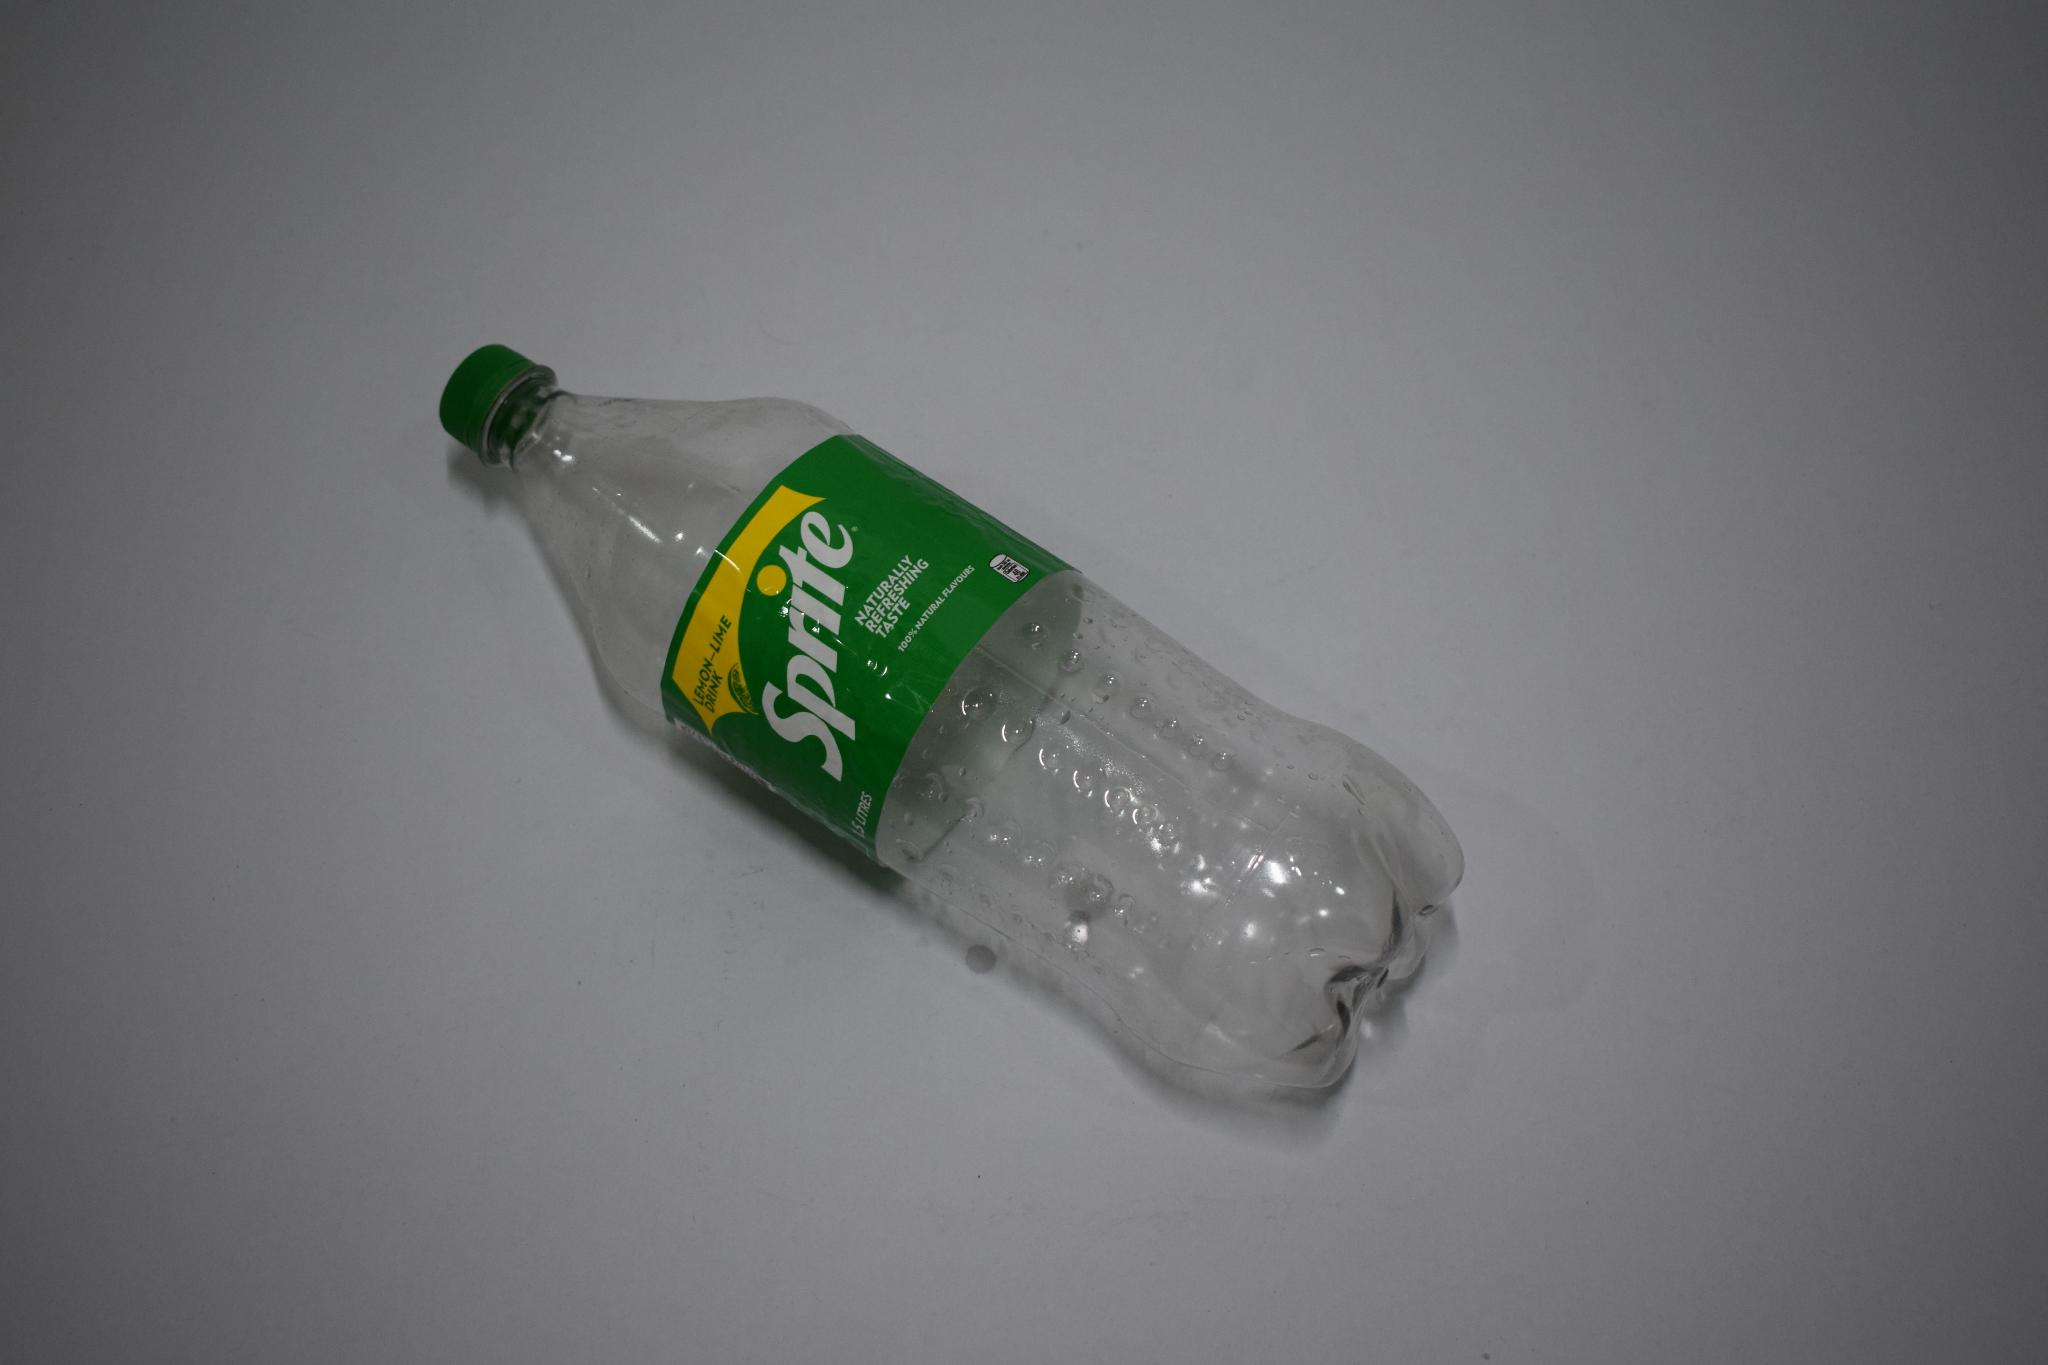bottle: (417, 324, 1506, 1143)
